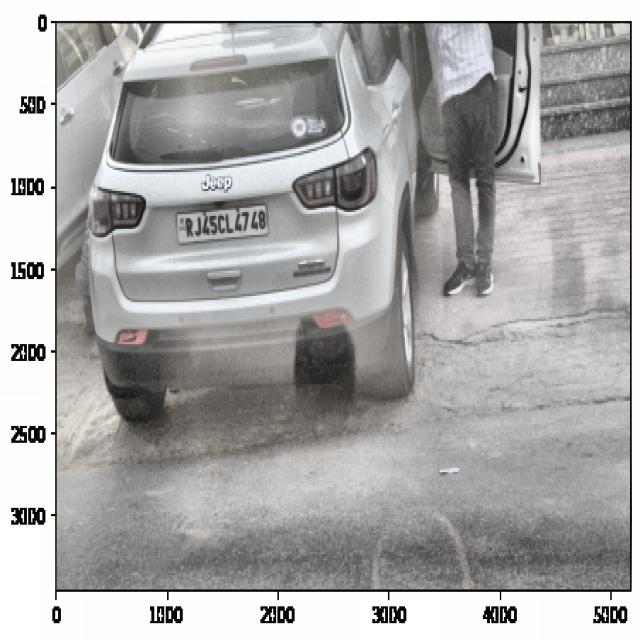license_plate: (179, 200, 268, 247)
